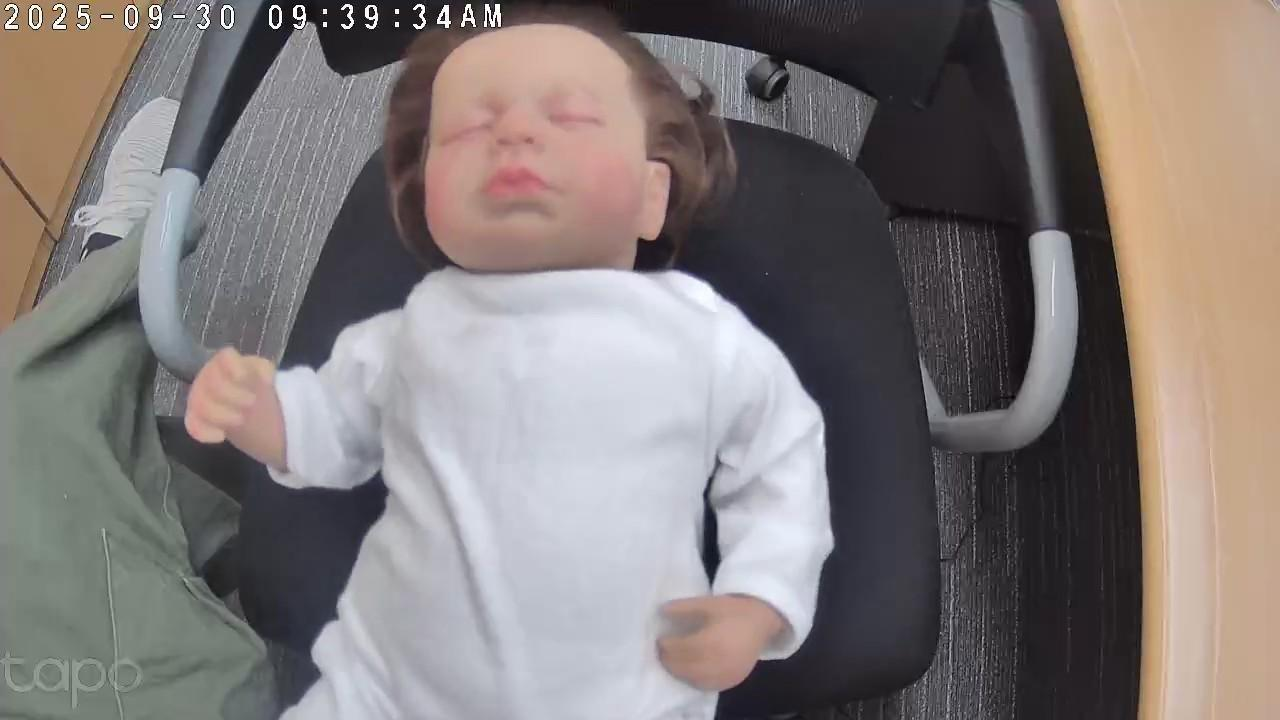hand: (654, 593, 780, 693), (185, 346, 278, 458)
